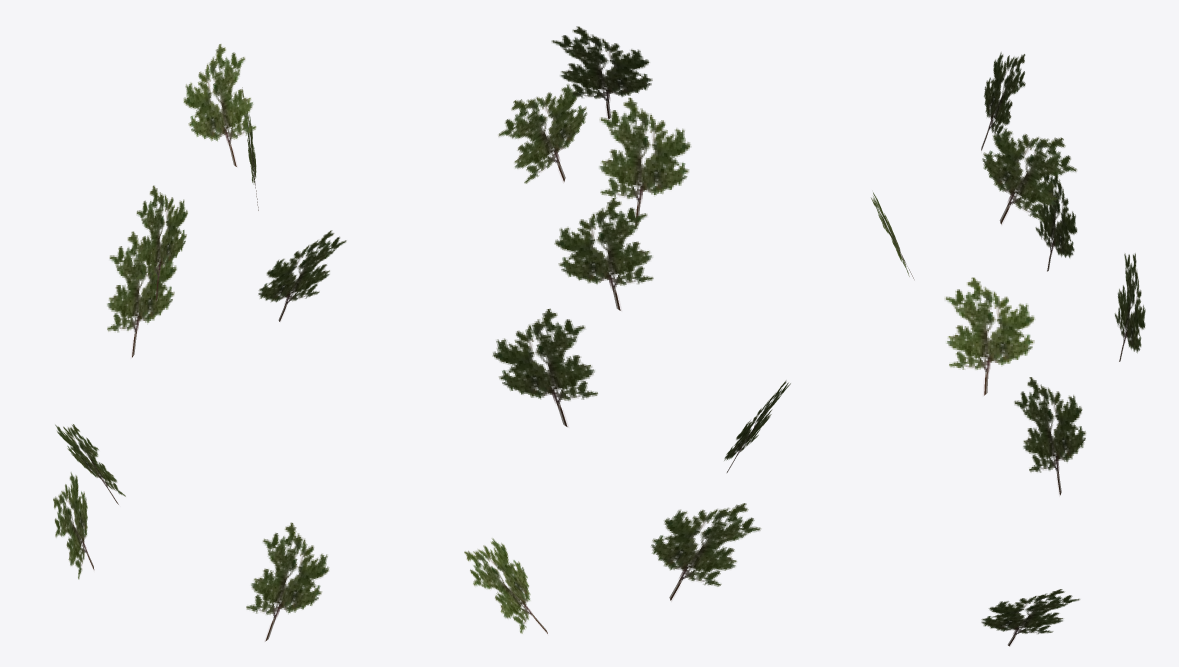
The model's file is bush-tall.lod2.glb.
The picture shows the model from 3 angles, left to right: view 1: azimuth 30°, elevation 25°; view 2: azimuth 150°, elevation 25°; view 3: azimuth 270°, elevation 25°; orthographic projection. The views are drawn at different scales.
Visible parts, largest first — view 1: Object_17; view 2: Object_17; view 3: Object_17.
Part boxes in pixels (x1=…): Object_17: x1=53, y1=44, x2=346, y2=641; Object_17: x1=464, y1=26, x2=790, y2=633; Object_17: x1=871, y1=52, x2=1145, y2=646.
Size of what is drawn, in the model's own units: 1.02 by 1.83 by 0.8595.
Materials: 1 (1 with a texture image).
